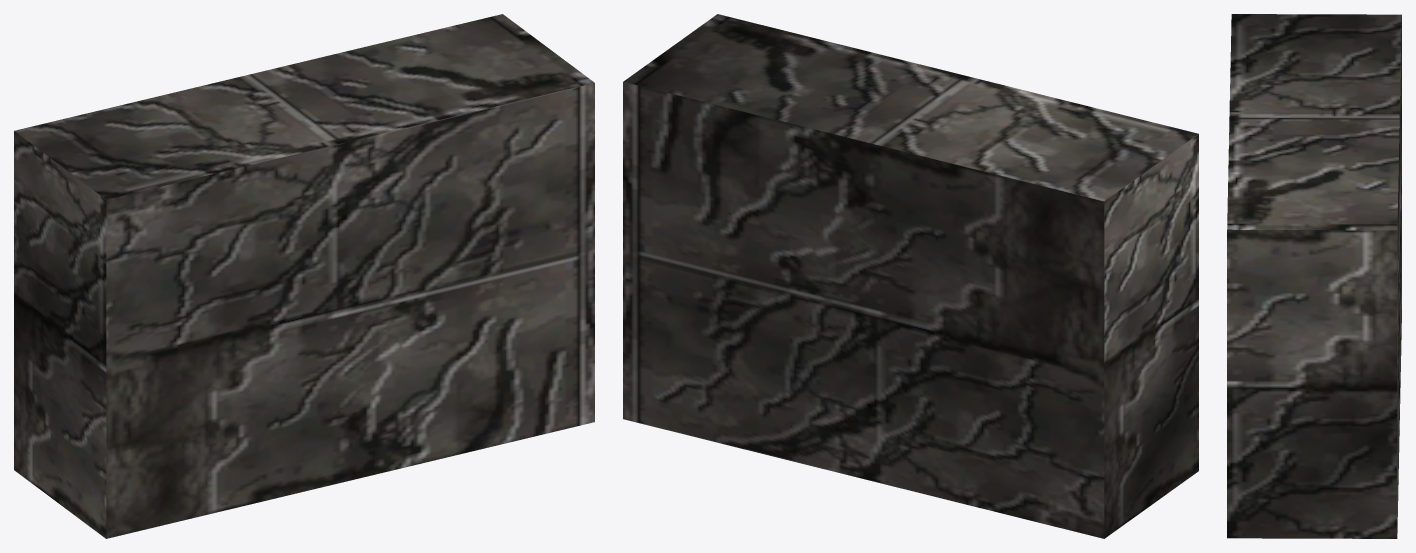
File: INST_SM_DEBRIS_BLOCK_SMALLE.fbx
3 views of the same model, side by side, from view 1: azimuth 30°, elevation 25°; view 2: azimuth 150°, elevation 25°; view 3: azimuth 270°, elevation 25° (orthographic). The views are drawn at different scales.
Parts seen in each view (by area): view 1: INST_SM_DEBRIS_BLOCK_SMALLE; view 2: INST_SM_DEBRIS_BLOCK_SMALLE; view 3: INST_SM_DEBRIS_BLOCK_SMALLE.
Part boxes in pixels (x1=…): INST_SM_DEBRIS_BLOCK_SMALLE: x1=14, y1=14, x2=594, y2=538; INST_SM_DEBRIS_BLOCK_SMALLE: x1=623, y1=14, x2=1198, y2=538; INST_SM_DEBRIS_BLOCK_SMALLE: x1=1227, y1=14, x2=1401, y2=538.
Bounding box in the file's own units: 30086 × 20000 × 10261.
1 material, 1 textured.
